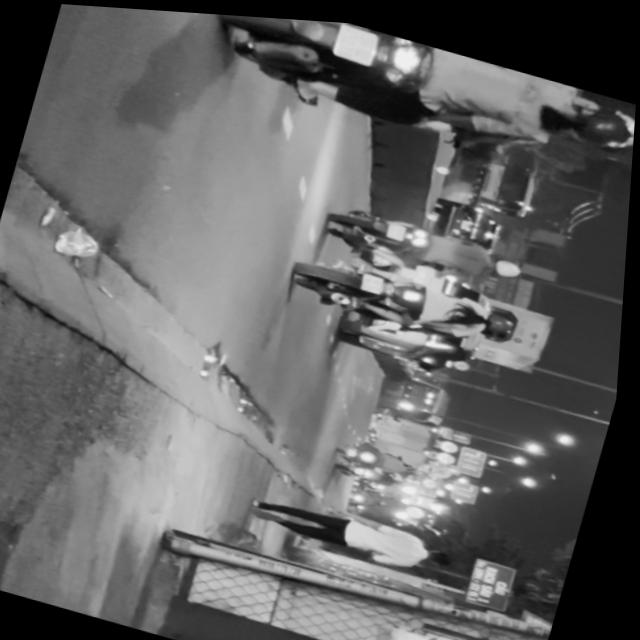helmet: (552, 82, 637, 147)
licenseplate: (203, 11, 640, 186)
nohelmet: (333, 18, 381, 60)
